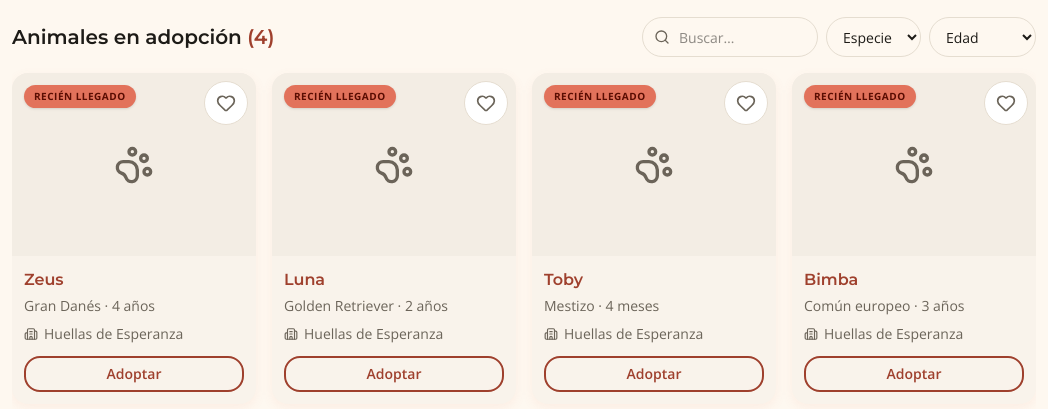
ShelterAnimalsGrid › el buscador filtra por nombre sin distinguir mayúsculas ni acentos
The width and height of the screenshot is (1048, 409).
In the search field: (730, 37) left=642, top=17, right=818, bottom=57, type "LÚNA"
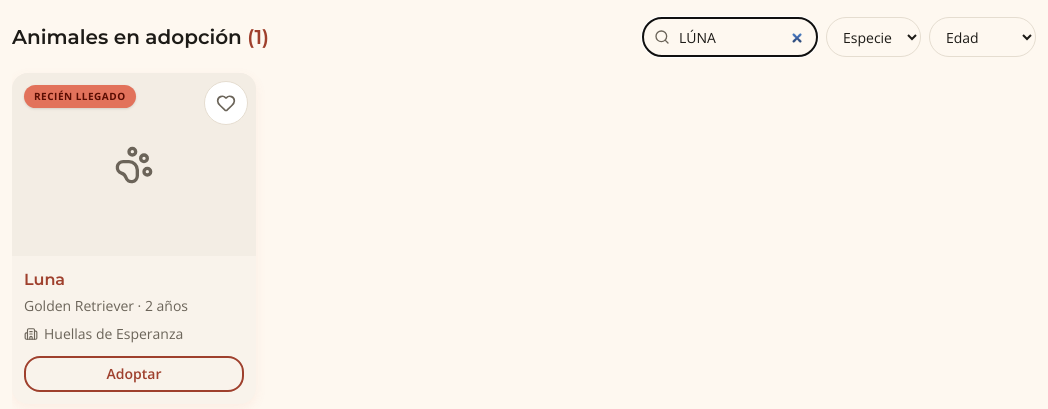
Expected: the heading "Luna" is shown, left=24, top=270, right=65, bottom=289
Expected: the link "Toby" is gone
Expected: the text "(1)" is shown, left=247, top=25, right=269, bottom=49
